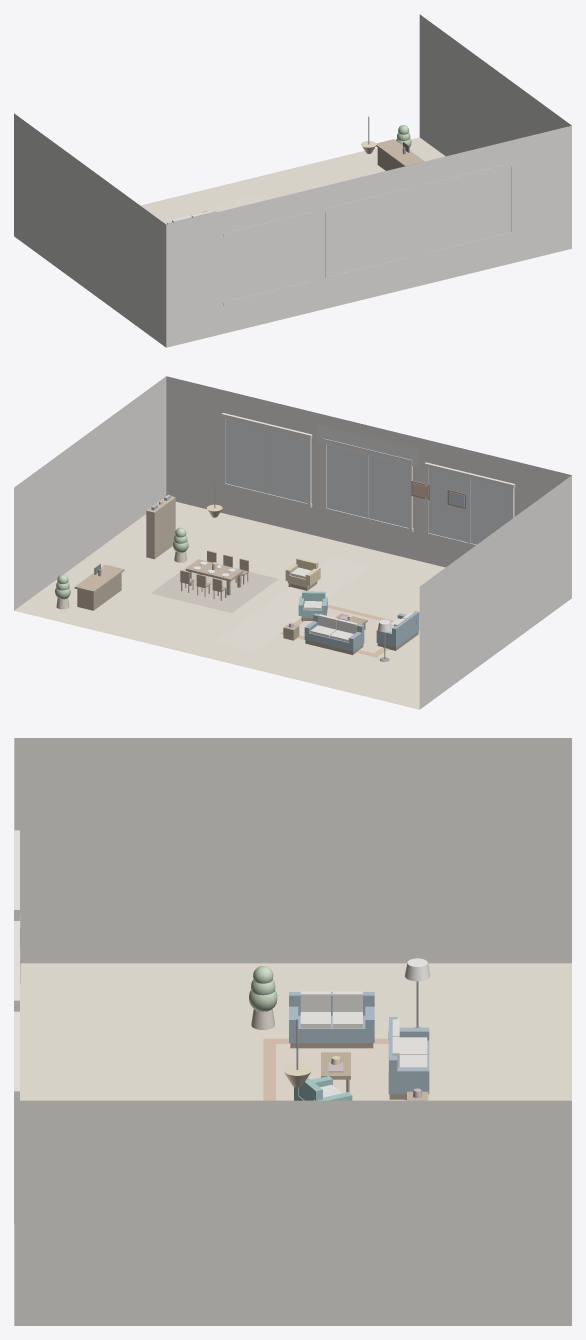
3 views of the same model, one above another, from view 1: azimuth 30°, elevation 25°; view 2: azimuth 150°, elevation 25°; view 3: azimuth 270°, elevation 25° (orthographic). The views are drawn at different scales.
Visible parts, largest first — view 1: object 3, object 4, object 5, object 1, sales_desk; view 2: object 1, object 3, object 4, object 5, window_3 (×2), window_2, window (×2), object 2, object 83, object 24, shelf_unit, sales_desk (×2) (+4 smaller); view 3: object 5, object 4, object 1, object 26, sofa_2, object 25.
Boxes of the visible parts, <box> form: object 3: <box>166,125,571,347</box>; object 4: <box>14,113,166,347</box>; object 5: <box>419,14,571,156</box>; object 1: <box>140,137,445,223</box>; sales_desk: <box>376,139,424,166</box>; object 1: <box>14,502,445,709</box>; object 3: <box>166,376,571,567</box>; object 4: <box>419,475,571,709</box>; object 5: <box>14,376,166,610</box>; window_3 (×2): <box>221,413,312,502</box>; window_2: <box>327,445,408,527</box>; window (×2): <box>424,462,515,544</box>; object 2: <box>214,556,371,651</box>; object 83: <box>151,559,277,612</box>; object 24: <box>317,424,418,467</box>; shelf_unit: <box>146,496,175,559</box>; sales_desk (×2): <box>74,564,124,610</box>; object 5: <box>14,1100,571,1325</box>; object 4: <box>14,738,571,963</box>; object 1: <box>20,963,571,1100</box>; object 26: <box>276,1044,404,1100</box>; sofa_2: <box>289,1015,374,1042</box>; object 25: <box>263,1038,406,1100</box>.
Bounding box in the file's own units: 20 × 5.8 × 13.01.
